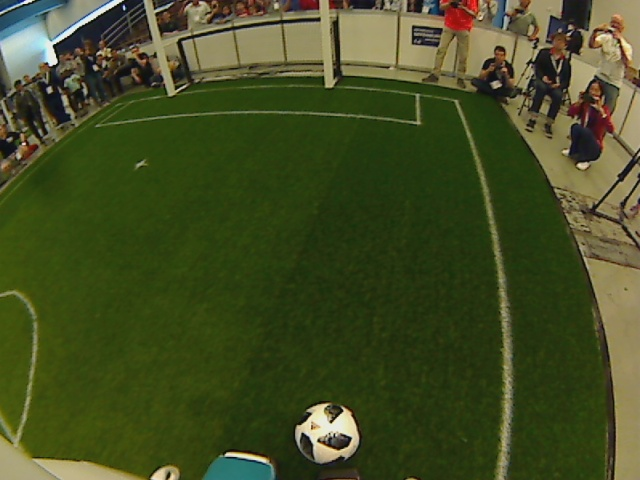ball: (292, 401, 361, 467)
